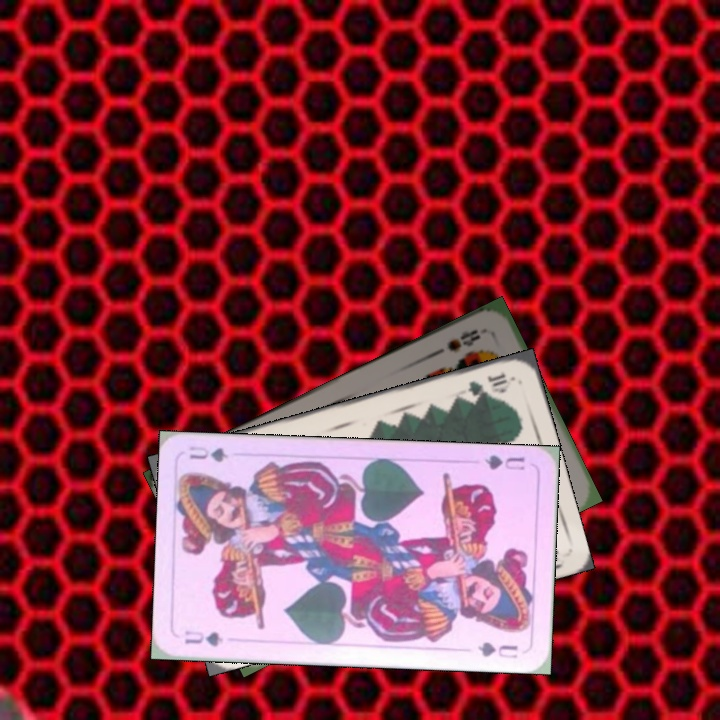G10: (464, 369, 510, 399)
GU: (480, 451, 528, 473), (180, 627, 225, 649)
S8: (443, 325, 483, 355)
